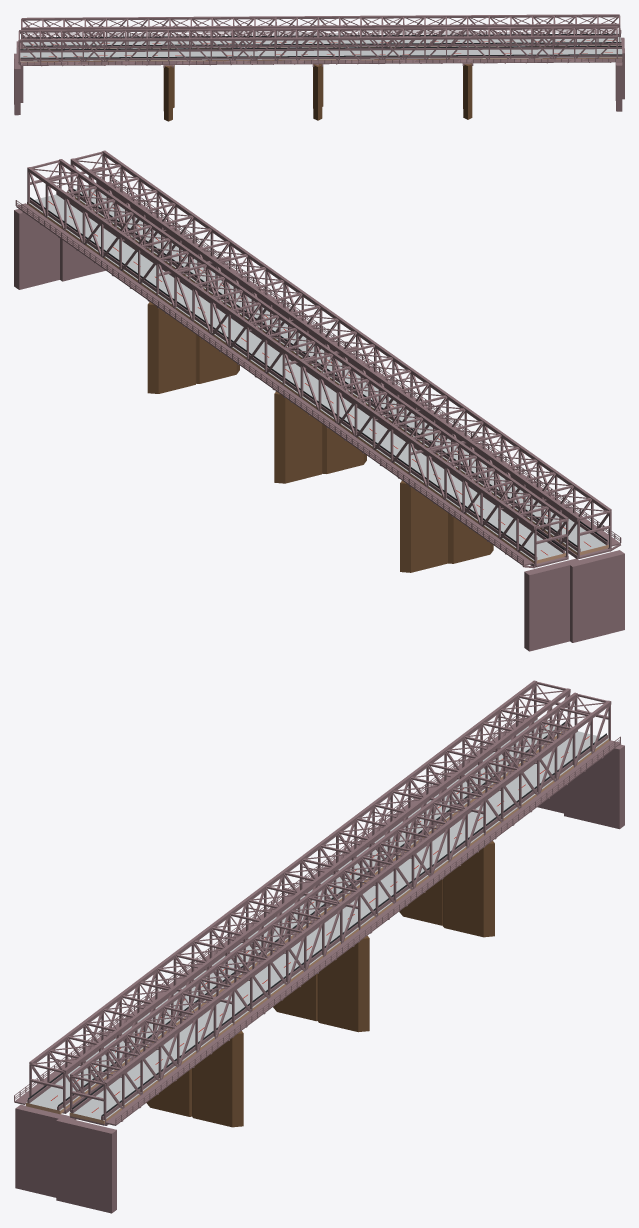
File: br_r13_low_level.gltf
3 renders of one model, top to bottom at view 1: azimuth 30°, elevation 25°; view 2: azimuth 150°, elevation 25°; view 3: azimuth 270°, elevation 25°, orthographic. The views are drawn at different scales.
Visible parts, largest first — view 1: br_r13_low_level; view 2: br_r13_low_level; view 3: br_r13_low_level.
Boxes of the visible parts, box(x1,y1,x2,y2) form: br_r13_low_level: box(14, 14, 624, 121); br_r13_low_level: box(14, 150, 624, 651); br_r13_low_level: box(14, 680, 624, 1213).
Bounding box in the file's own units: 201 × 31.4 × 126.
